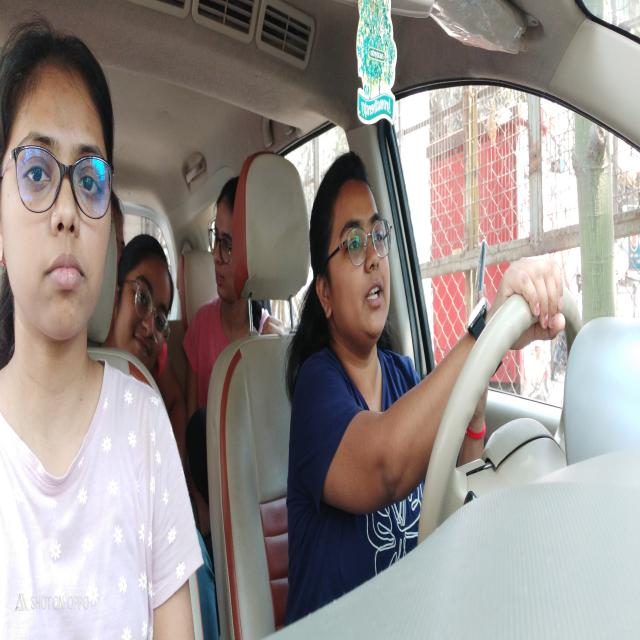person: (3, 28, 112, 376), (306, 148, 404, 356), (119, 232, 177, 386), (208, 172, 245, 322)
